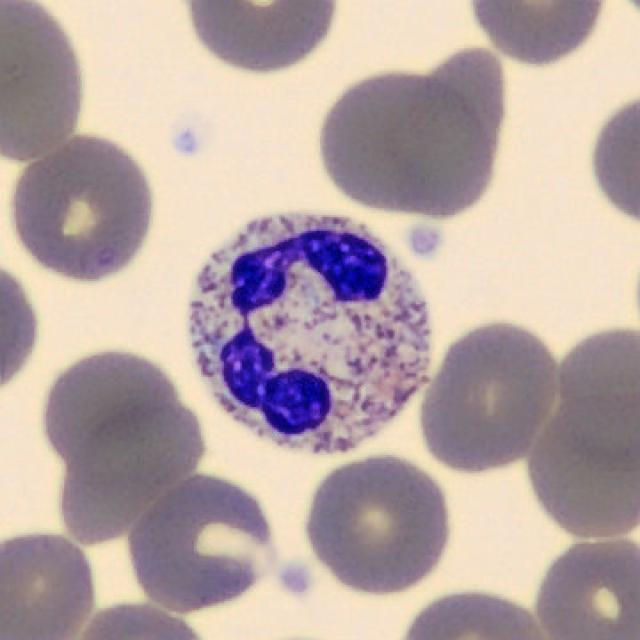Neutrofilo segmentado: (187, 212, 434, 457)
